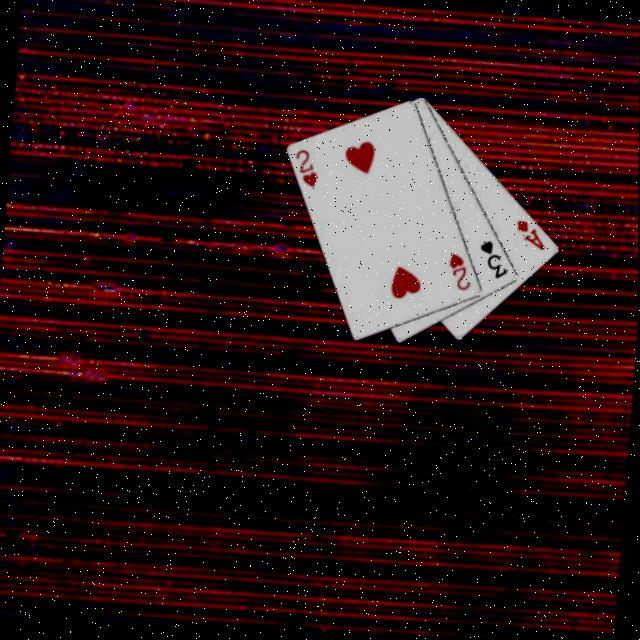2H: (292, 143, 324, 189), (446, 248, 477, 292)
3S: (476, 234, 514, 280)
AD: (514, 215, 552, 252)
